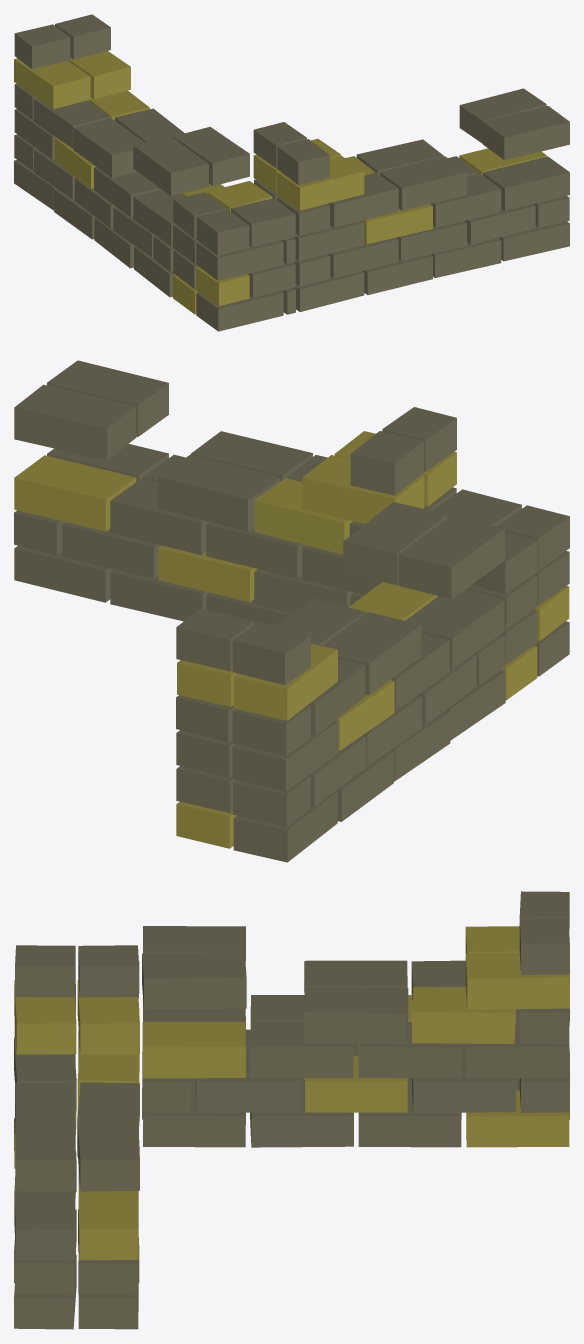
File: SM_SacosEsquina_v2_Irregular_e0_Sano_LOD0.fbx
3 views of the same model, one above another, from view 1: azimuth 30°, elevation 25°; view 2: azimuth 150°, elevation 25°; view 3: azimuth 270°, elevation 25° (orthographic). The views are drawn at different scales.
Parts seen in each view (by area): view 1: SM_sacos_piezas_v8_LOD0; view 2: SM_sacos_piezas_v8_LOD0; view 3: SM_sacos_piezas_v8_LOD0.
Boxes of the visible parts, x1,y1,x2,y2 form: SM_sacos_piezas_v8_LOD0: (14, 14, 569, 331); SM_sacos_piezas_v8_LOD0: (14, 360, 569, 862); SM_sacos_piezas_v8_LOD0: (14, 891, 569, 1329).
Size of the model in its own units: 4.38 by 1.77 by 4.38.
